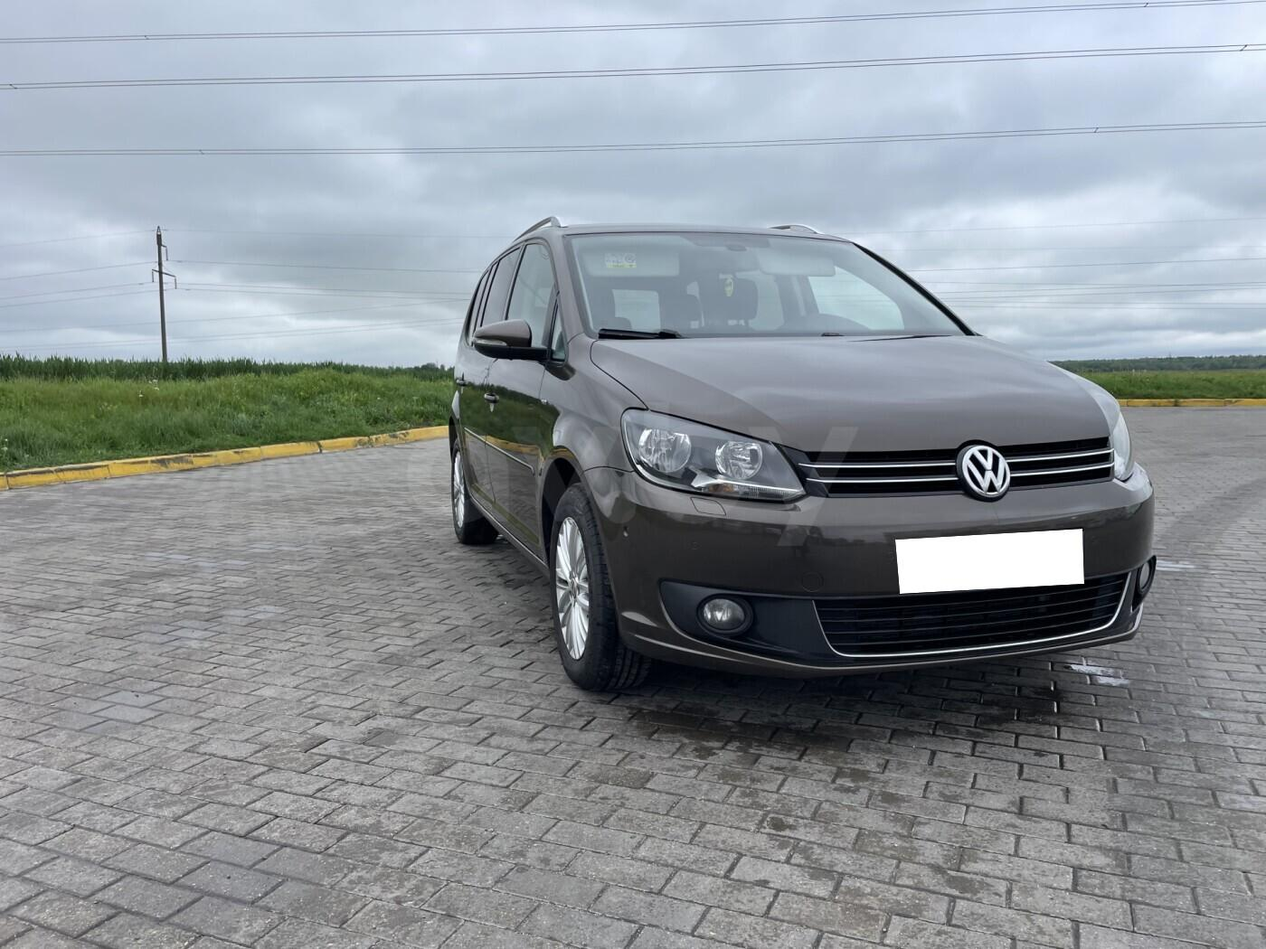Touran_2010-2015: (434, 210, 1161, 714)
